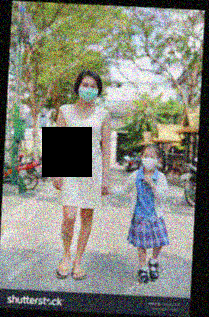with_mask: (78, 82, 98, 101), (140, 153, 158, 170)
